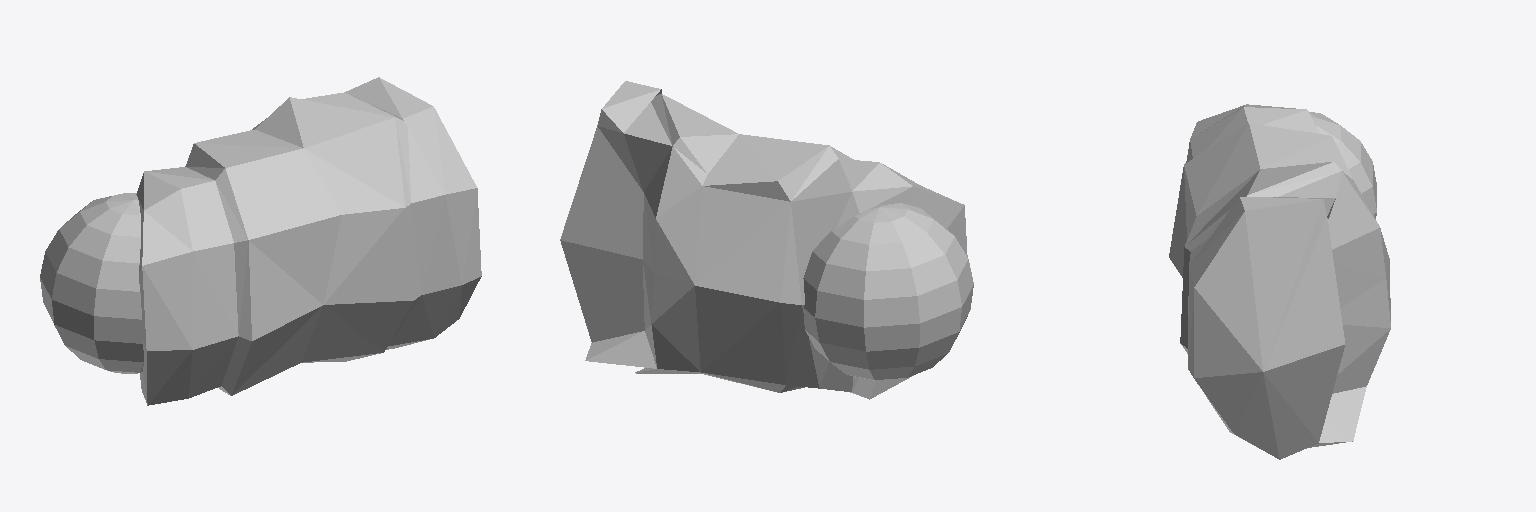
File: RFinger31.obj
The picture shows the model from 3 angles: view 1: azimuth 30°, elevation 25°; view 2: azimuth 150°, elevation 25°; view 3: azimuth 270°, elevation 25°; orthographic projection.
Visible parts, largest first — view 1: RFinger31_JULIETTE_AV_BRAS_.096; view 2: RFinger31_JULIETTE_AV_BRAS_.096; view 3: RFinger31_JULIETTE_AV_BRAS_.096.
Part boxes in pixels (x1,y1,x2,y2): RFinger31_JULIETTE_AV_BRAS_.096: (40,77,481,405); RFinger31_JULIETTE_AV_BRAS_.096: (560,81,973,399); RFinger31_JULIETTE_AV_BRAS_.096: (1169,104,1390,459).
Size of the model in its own units: 0.2753 by 0.1684 by 0.133.